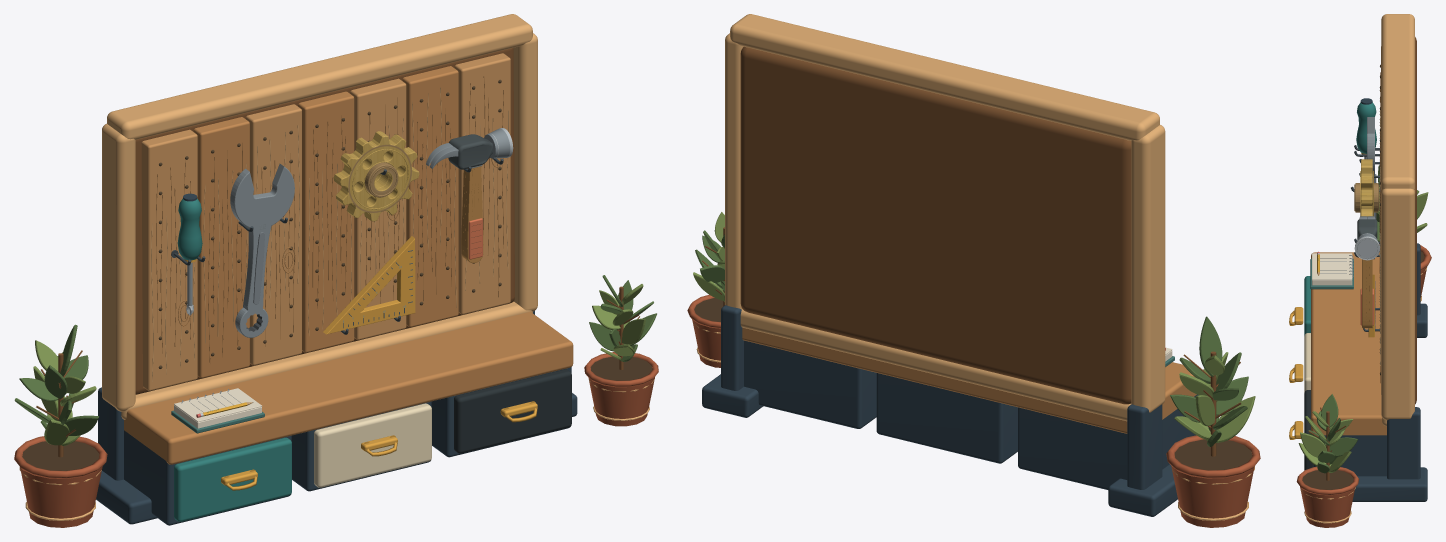
Rendered from workshop-tool-rack-final.glb.
3 renders of one model, left to right at view 1: azimuth 30°, elevation 25°; view 2: azimuth 150°, elevation 25°; view 3: azimuth 270°, elevation 25°, orthographic. The views are drawn at different scales.
Visible parts, largest first — view 1: timber, plank, Refined_Frame_Top, navy, Refined_Frame_Side_-069, cream, teal, Refined_Grey_Drawer, Refined_Frame_Side_069, grain, Refined_Frame_Bottom, brass_2 (+13 smaller); view 2: darkWood, navy, Refined_Frame_Top, Refined_Frame_Side_-069, Refined_Frame_Bottom, timber, pot, Refined_Frame_Side_069, soil, pot_1, Leaf 8, Leaf 1; view 3: timber, Refined_Frame_Side_069, navy, Refined_Frame_Top, pot_1, brass_2, Notebook_element_3, soil_1, Wood_Handle, darkWood, Refined_Original_Yellow_Handles, Teal_Handle (+17 smaller).
Part boxes in pixels (box(x1,y1,x2,y2)): timber: box(124, 66, 573, 464); plank: box(141, 53, 510, 390); Refined_Frame_Top: box(107, 14, 532, 139); navy: box(96, 311, 577, 525); Refined_Frame_Side_-069: box(102, 123, 135, 411); cream: box(314, 403, 431, 487); teal: box(174, 437, 291, 521); Refined_Grey_Drawer: box(454, 369, 571, 453); Refined_Frame_Side_069: box(513, 33, 537, 311); grain: box(156, 76, 503, 363); Refined_Frame_Bottom: box(121, 301, 532, 419); brass_2: box(333, 131, 419, 221); darkWood: box(740, 46, 1131, 404); navy: box(702, 305, 1198, 516); Refined_Frame_Top: box(730, 14, 1159, 140); Refined_Frame_Side_-069: box(1131, 125, 1165, 412); Refined_Frame_Bottom: box(740, 309, 1131, 421); timber: box(742, 327, 1196, 433); pot: box(1166, 435, 1260, 527); Refined_Frame_Side_069: box(725, 33, 743, 309); soil: box(1174, 439, 1252, 470); pot_1: box(687, 294, 720, 367); Leaf 8: box(1199, 316, 1222, 377); Leaf 1: box(1216, 396, 1255, 442); timber: box(1311, 68, 1386, 435); Refined_Frame_Side_069: box(1381, 188, 1414, 420); navy: box(1314, 243, 1427, 501); Refined_Frame_Top: box(1381, 14, 1414, 189); pot_1: box(1296, 466, 1359, 527); brass_2: box(1354, 159, 1379, 216); Notebook_element_3: box(1312, 253, 1352, 280); soil_1: box(1302, 470, 1353, 489); Wood_Handle: box(1362, 259, 1372, 328); darkWood: box(1414, 37, 1416, 404); Refined_Original_Yellow_Handles: box(1289, 307, 1303, 439); Teal_Handle: box(1356, 102, 1376, 153).
Bounding box in the file's own units: 2.04 × 1.25 × 0.5082.
Materials: 60 (1 with a texture image).
